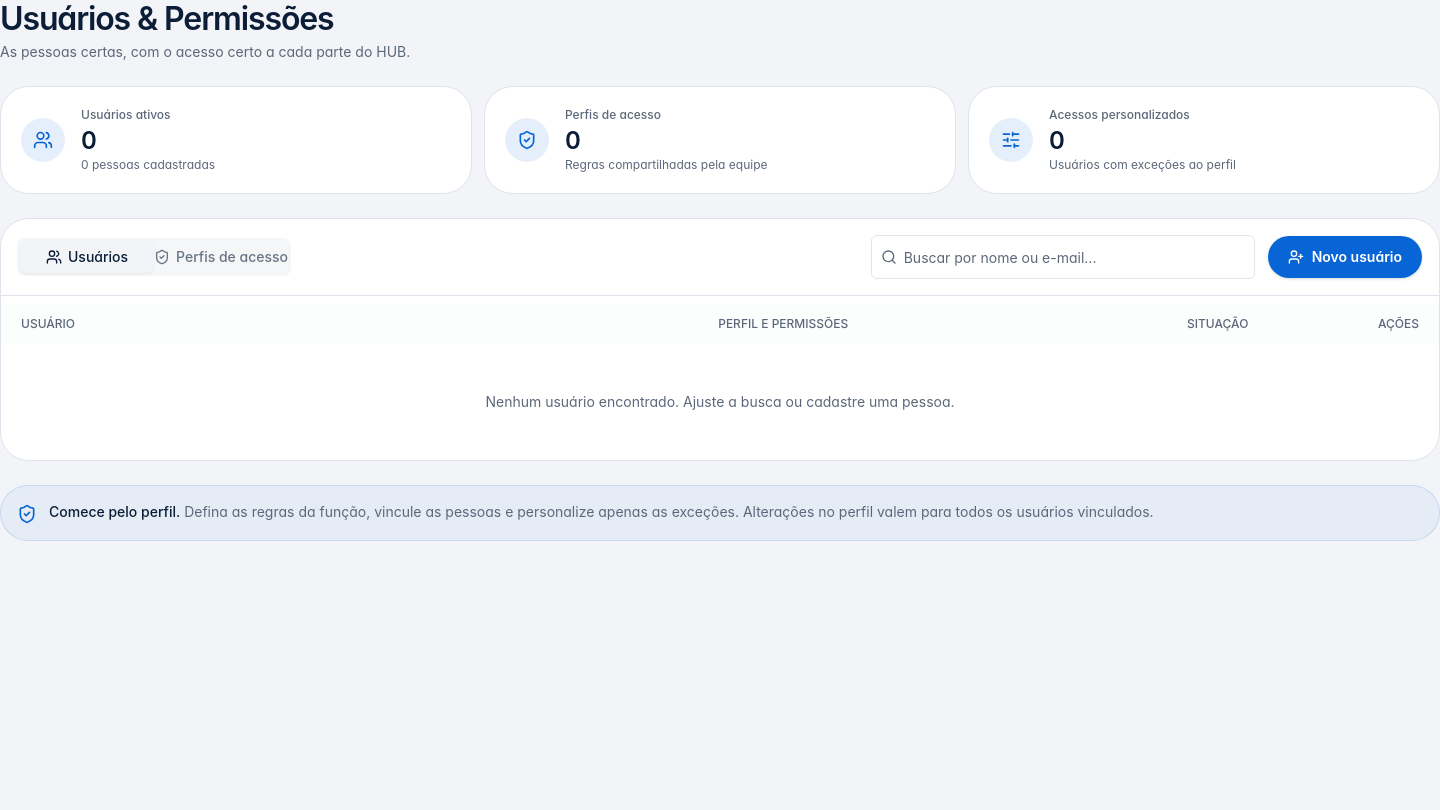
Test: novo usuário recebe convite sem campo de senha do administrador
Click the button "Novo usuário" at (1345, 257), box left=1267, top=235, right=1423, bottom=279
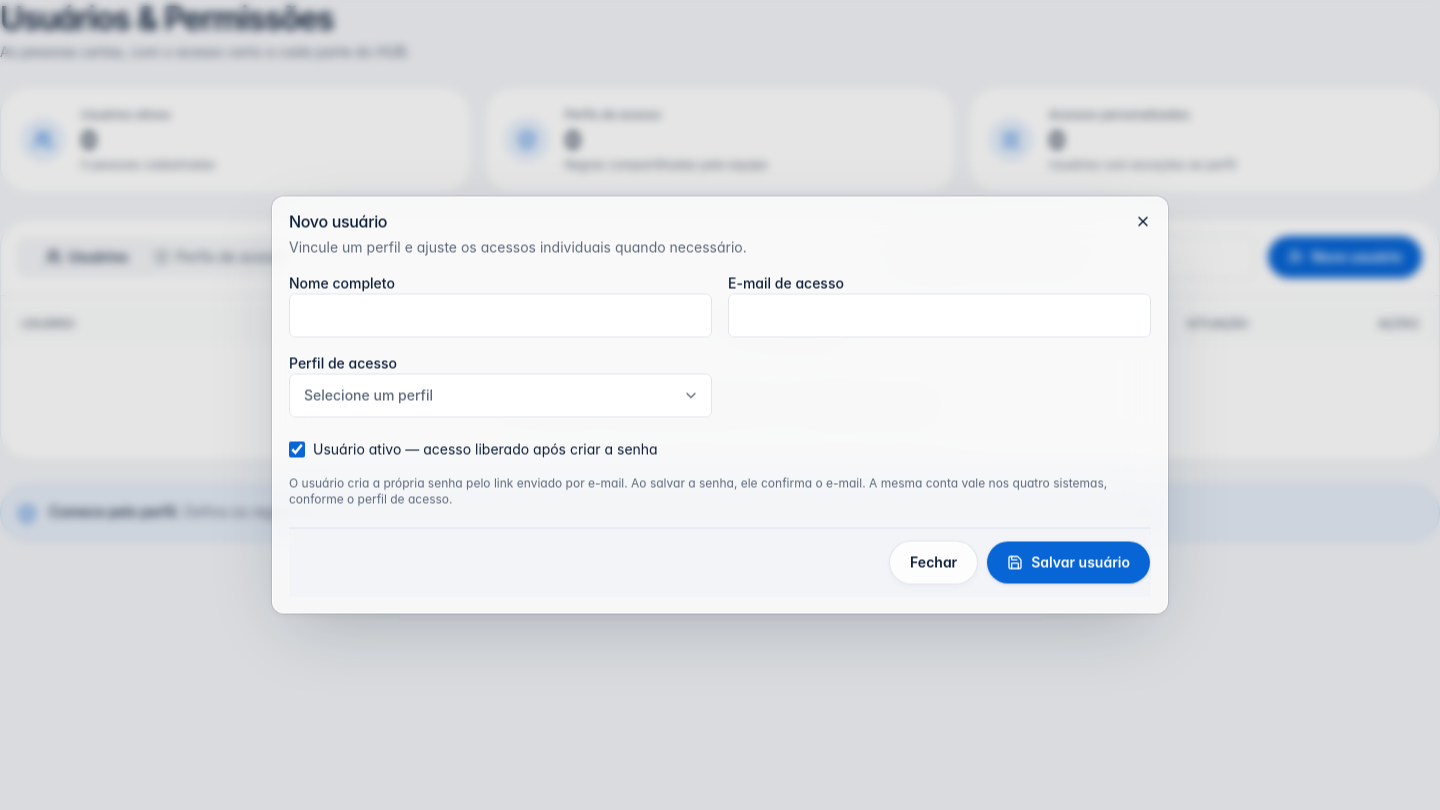
Result: the text "O usuário cria a própria senha" is shown at left=289, top=476, right=1107, bottom=506
